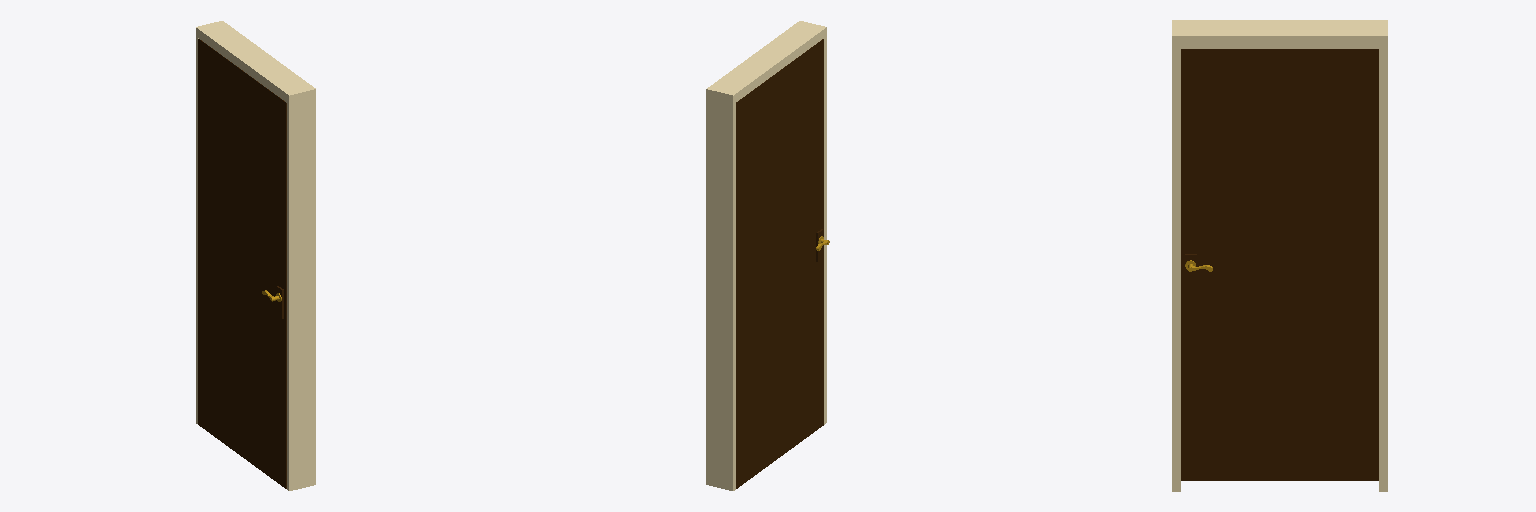
The robot description file, URDF, robot "door":
<?xml version="1.0" ?>
<!-- =================================================================================== -->
<!-- |    This document was autogenerated by xacro from door.xacro                     | -->
<!-- |    EDITING THIS FILE BY HAND IS NOT RECOMMENDED                                 | -->
<!-- =================================================================================== -->
<robot name="door">
  <link name="world"/>
  <joint name="fixed" type="fixed">
    <parent link="world"/>
    <child link="frame"/>
    <origin rpy= "0 0 1.5708" xyz="-0.075 0.425 0"/>
  </joint>
  <link name="frame">
    <inertial>
      <origin rpy="0 0 0" xyz="0 0 0"/>
      <mass value="100.0"/>
      <inertia ixx="0.013102127690" ixy="-0.000000514790" ixz="0.000000965200" iyy="0.017339000240" iyz="-0.000017996010" izz="0.004334337460"/>
    </inertial>
    <visual>
      <origin rpy="0 0 0" xyz="0 0 0"/>
      <geometry>
        <mesh filename="package://qm_control/qm_description/meshes/doors/frame.stl"/>
      </geometry>
      <material name="ocher">
        <color rgba="0.949 0.890 0.722 1"/>
      </material>
    </visual>
    <collision>
      <origin rpy="0 0 0" xyz="0 0 0"/>
      <geometry>
        <mesh filename="package://qm_control/qm_description/meshes/doors/frame.stl"/>
      </geometry>
    </collision>
  </link>
  <gazebo reference="frame">
    <material>Gazebo/WoodPallet</material>
  </gazebo>
  <link name="door">
    <inertial>
      <origin rpy="0 0 0" xyz="0 0 0"/>
      <mass value="0.1"/>
      <inertia ixx="0.030386862790" ixy="0.000000000330" ixz="-0.000000216760" iyy="0.035534743650" iyz="-0.000000000060" izz="0.005184277950"/>
    </inertial>
    <visual>
      <origin rpy="0 0 0" xyz="0 0 0"/>
      <geometry>
        <mesh filename="package://qm_control/qm_description/meshes/doors/door.stl"/>
      </geometry>
      <material name="brown">
        <color rgba="0.29 0.184 0.07 1"/>
      </material>
    </visual>
    <collision>
      <origin rpy="0 0 0" xyz="0 0 0"/>
      <geometry>
        <mesh filename="package://qm_control/qm_description/meshes/doors/door.stl"/>
      </geometry>
    </collision>
  </link>
  <gazebo reference="door">
    <material>Gazebo/Wood</material>
  </gazebo>
  <joint name="joint_frame_door" type="revolute">
    <parent link="frame"/>
    <child link="door"/>
    <dynamics damping="0.2" friction="0.000001"/>
    <origin xyz="0 0 0"/>
    <axis xyz="0 0 1"/>
    <limit effort="1000.0" lower="-2.0" upper="0.0" velocity="0.5"/>
  </joint>
  <link name="lever">
    <inertial>
      <origin rpy="0 0 0" xyz="0 0 0"/>
      <mass value="5.0"/>
      <inertia ixx="0.01" ixy="0" ixz="0" iyy="0.01" iyz="0" izz="0.01"/>
    </inertial>
    <visual>
      <origin rpy="0 0 0" xyz="0 0 0"/>
      <geometry>
        <mesh filename="package://qm_control/qm_description/meshes/doors/lever.stl"/>
      </geometry>
      <material name="gold">
        <color rgba="0.769 0.604 0.153 1"/>
      </material>
    </visual>
    <collision>
      <origin rpy="0 0 0" xyz="0 0 0"/>
      <geometry>
        <mesh filename="package://qm_control/qm_description/meshes/doors/lever.stl"/>
      </geometry>
    </collision>
  </link>
  <gazebo reference="lever">
    <material>Gazebo/Gold</material>
  </gazebo>
  <joint name="joint_door_lever" type="revolute">
    <parent link="door"/>
    <child link="lever"/>
    <!--dynamics damping="0.5" friction="0.000001"/-->
    <origin rpy="1.5708 0 0" xyz="-0.79604 -0.06 1.0"/>
    <axis xyz="0 0 1"/>
    <limit effort="1000.0" lower="-0.5236" upper="0.0" velocity="0.5"/>
    <gazebo reference="joint_door_lever">
      <implicitSpringDamper>true</implicitSpringDamper>
      <spring_stiffness>10000</spring_stiffness>
      <spring_reference>0.0</spring_reference>
      <damping>10.0</damping>
    </gazebo>
  </joint>
  <gazebo reference="lever">
    <self_collide>1</self_collide>
  </gazebo>
  <gazebo reference="frame">
    <self_collide>1</self_collide>
  </gazebo>
  <gazebo reference="door">
    <self_collide>1</self_collide>
  </gazebo>
  <gazebo>
    <plugin name="gazebo_ros_control" filename="libgazebo_ros_control.so">
      <robotNamespace>/</robotNamespace>
    </plugin>
  </gazebo>

</robot>

--- Facts derived from the render (not from the file) ---
Views: 3 orthographic renders of the robot side by side, from view 1: azimuth 30°, elevation 25°; view 2: azimuth 150°, elevation 25°; view 3: azimuth 270°, elevation 25°.
Model door with 4 links and 3 joints (2 revolute, 1 fixed), rooted at world, posed every joint at zero.
Links seen in each view (by area): view 1: door, frame; view 2: door, frame; view 3: door, frame.
Boxes of the visible links, x1,y1,x2,y2 form: door: (198,39,286,488); frame: (196,21,315,490); door: (736,39,823,488); frame: (706,21,826,490); door: (1181,49,1378,480); frame: (1172,20,1387,491).
Bounding box of the posed robot: 0.2043 × 0.9001 × 2.1 m (x, y, z).
Meshes: 3 distinct files referenced, 3 mesh visuals loaded (3 binary STL).